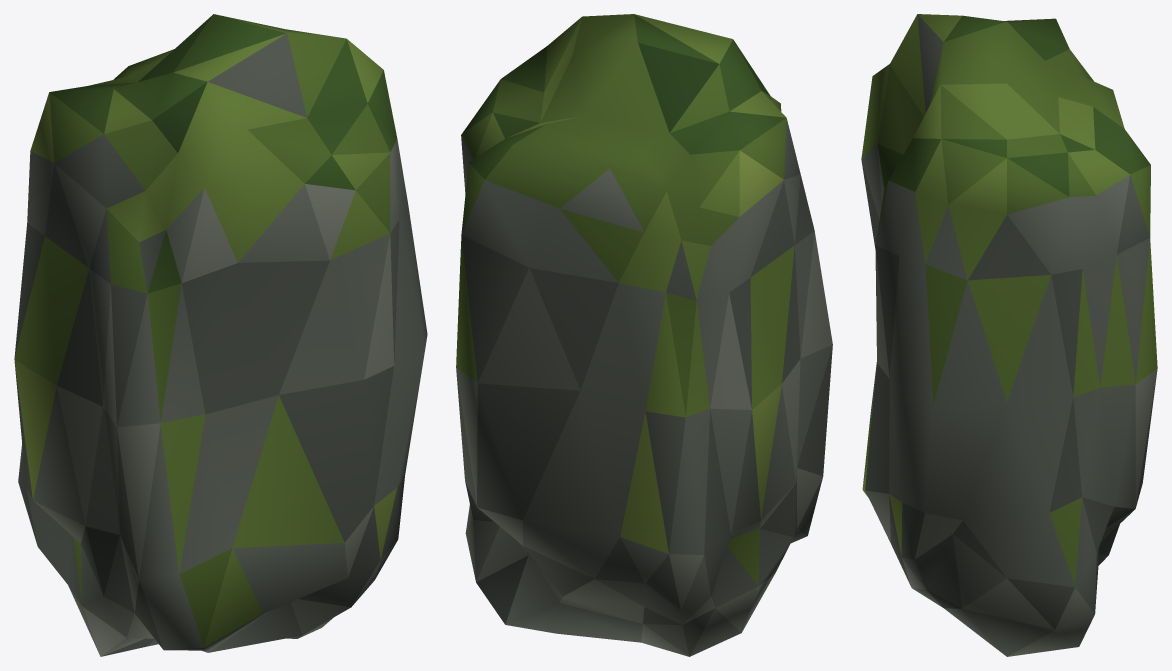
The model's file is forest-cascade-ledge-4.glb.
3 views of the same model, side by side, from view 1: azimuth 30°, elevation 25°; view 2: azimuth 150°, elevation 25°; view 3: azimuth 270°, elevation 25° (orthographic). The views are drawn at different scales.
Visible parts, largest first — view 1: forest-cascade-ledge-4/0; view 2: forest-cascade-ledge-4/0; view 3: forest-cascade-ledge-4/0.
Boxes of the visible parts, box(x1,y1,x2,y2) form: forest-cascade-ledge-4/0: box(14, 14, 427, 656); forest-cascade-ledge-4/0: box(456, 14, 832, 656); forest-cascade-ledge-4/0: box(861, 14, 1157, 656).
Size of the model in its own units: 2.95 by 5.38 by 2.46.
